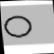no answer: (1, 12, 35, 40)
